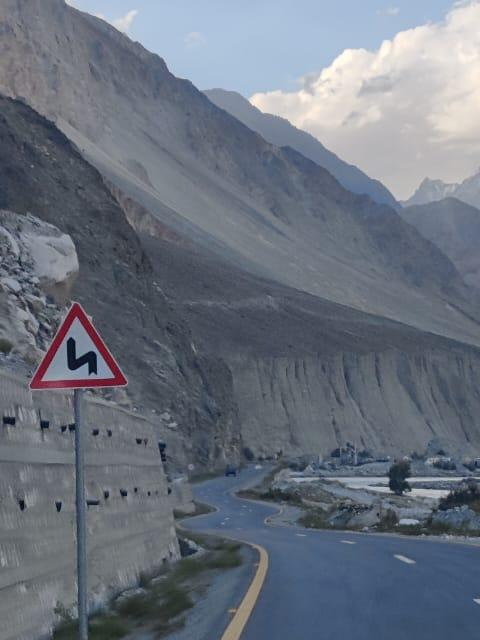left_turn: (198, 510, 385, 567)
